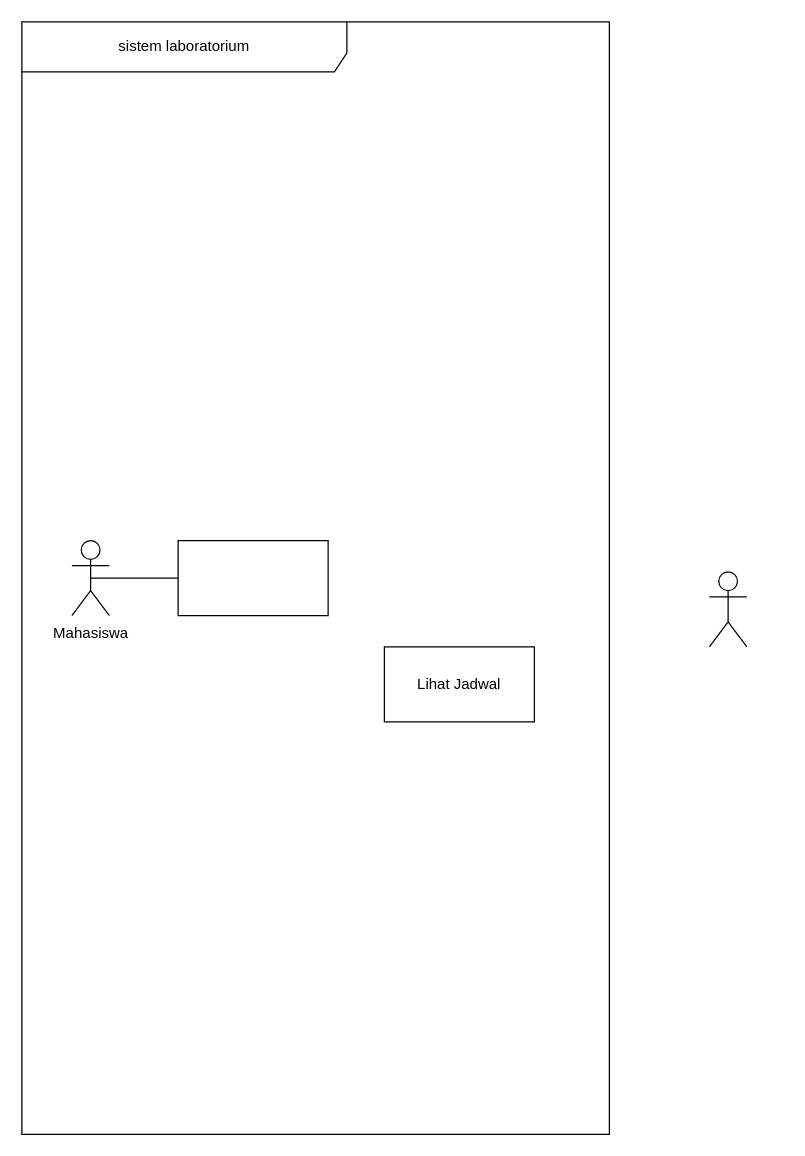
The diagram is 805 pixels wide and 1156 high, and some of its shapes have lost their labels. The centre of each missing label's shape, as x and y in pixels:
Admin Akademik: point (727, 609)
Kelola Jadwal: point (252, 577)
